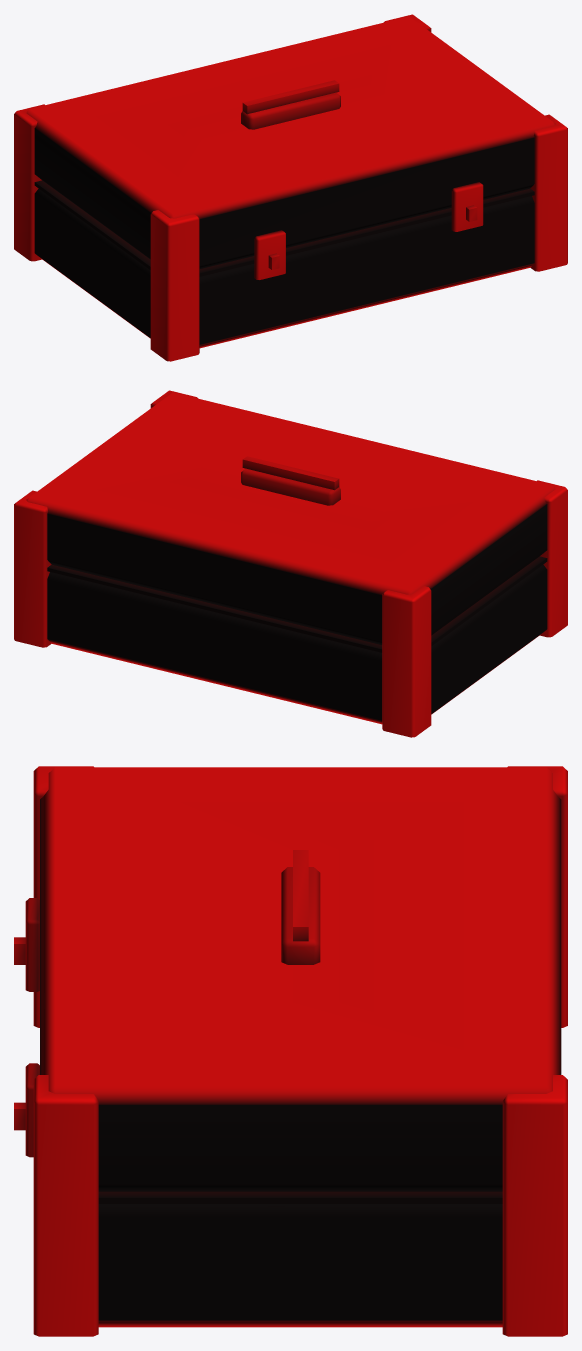
File: CI_Bedroom_Suitcase_Old.glb
3 renders of one model, top to bottom at view 1: azimuth 30°, elevation 25°; view 2: azimuth 150°, elevation 25°; view 3: azimuth 270°, elevation 25°, orthographic. The views are drawn at different scales.
Parts seen in each view (by area): view 1: CI_Bedroom_Suitcase_Old; view 2: CI_Bedroom_Suitcase_Old; view 3: CI_Bedroom_Suitcase_Old.
Part boxes in pixels (bbox=[...]): CI_Bedroom_Suitcase_Old: bbox=[14, 14, 567, 361]; CI_Bedroom_Suitcase_Old: bbox=[14, 390, 567, 737]; CI_Bedroom_Suitcase_Old: bbox=[14, 766, 567, 1336].
Bounding box in the file's own units: 0.61 × 0.237 × 0.425.
